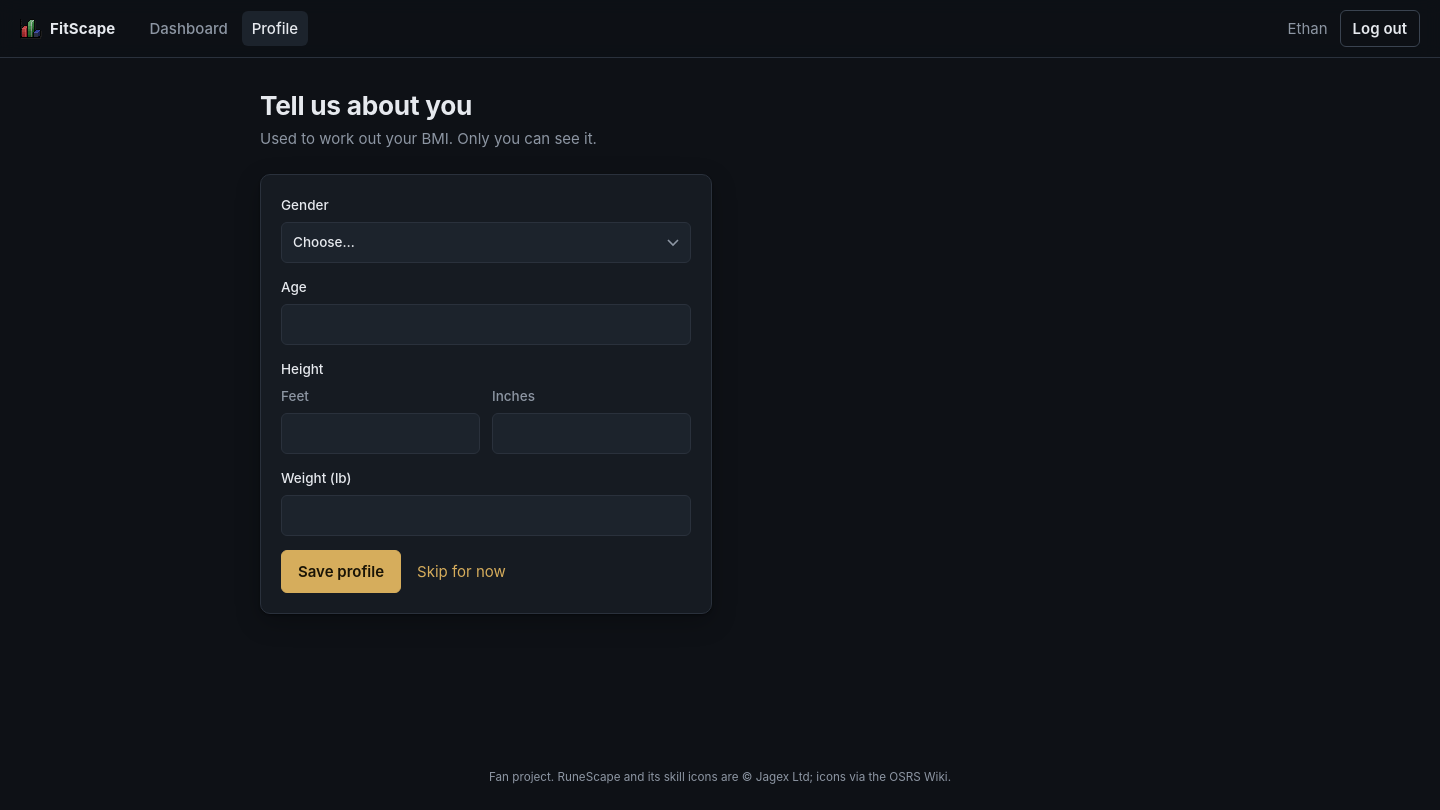
Scenario: Profile › asks a new user for their details and shows the BMI after saving
Expected: the heading "Tell us about you" is shown, [260,90,472,121]
Select "Male" in the dropdown labelled "Gender": (486, 243) [281,222,691,263]
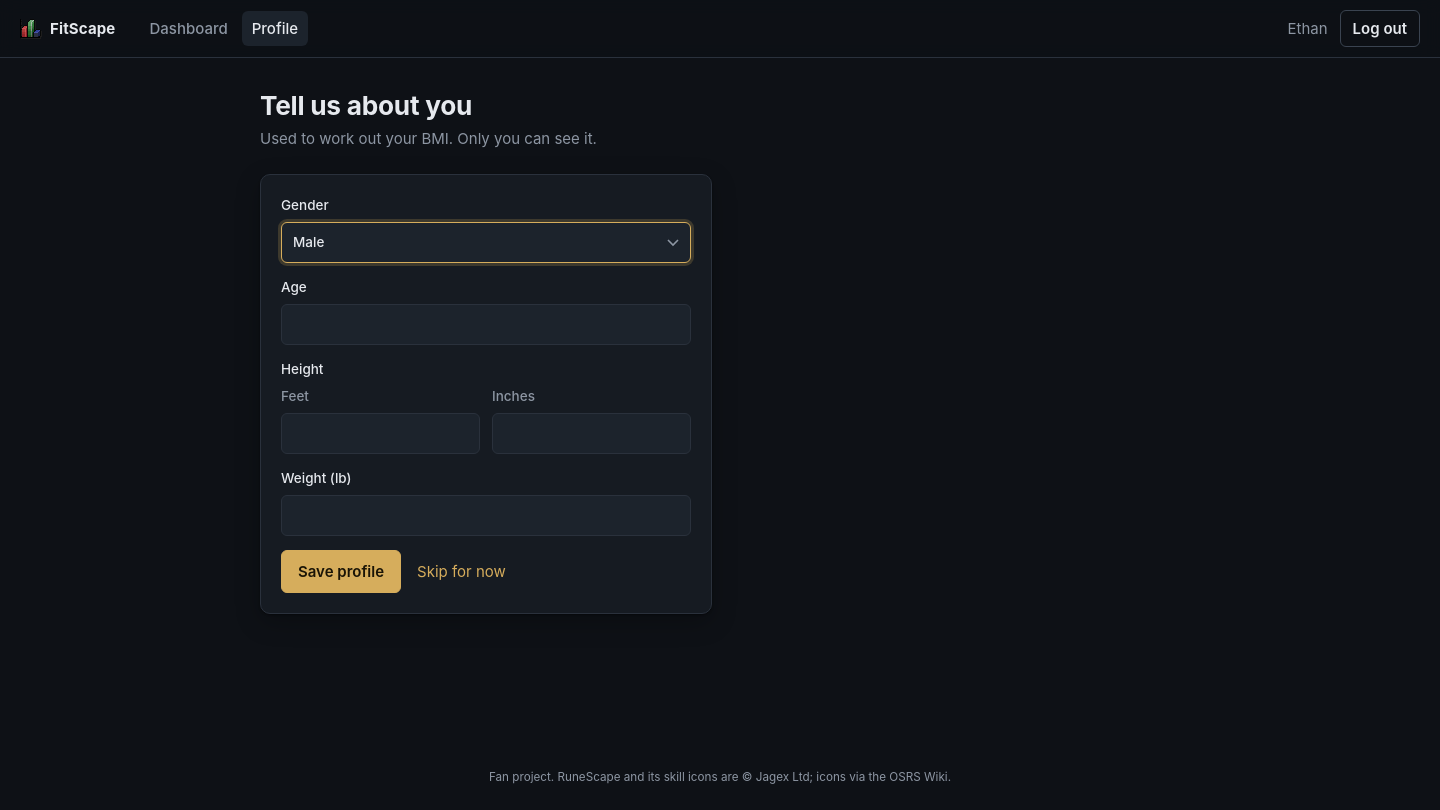
In the number field labelled "Age": (486, 325) [281,304,691,345], type "22"
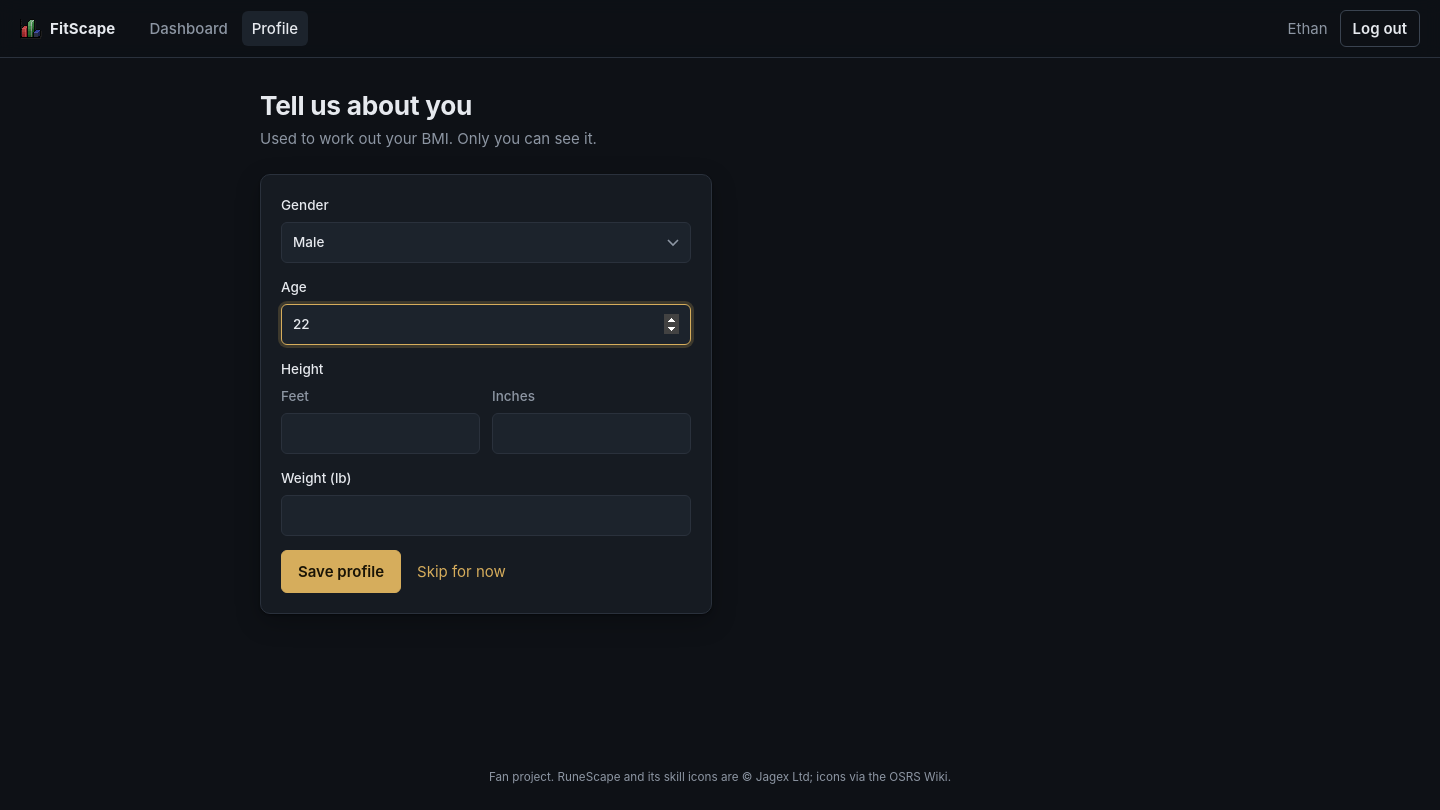
In the number field labelled "Feet": (380, 433) [281,413,480,454], type "5"
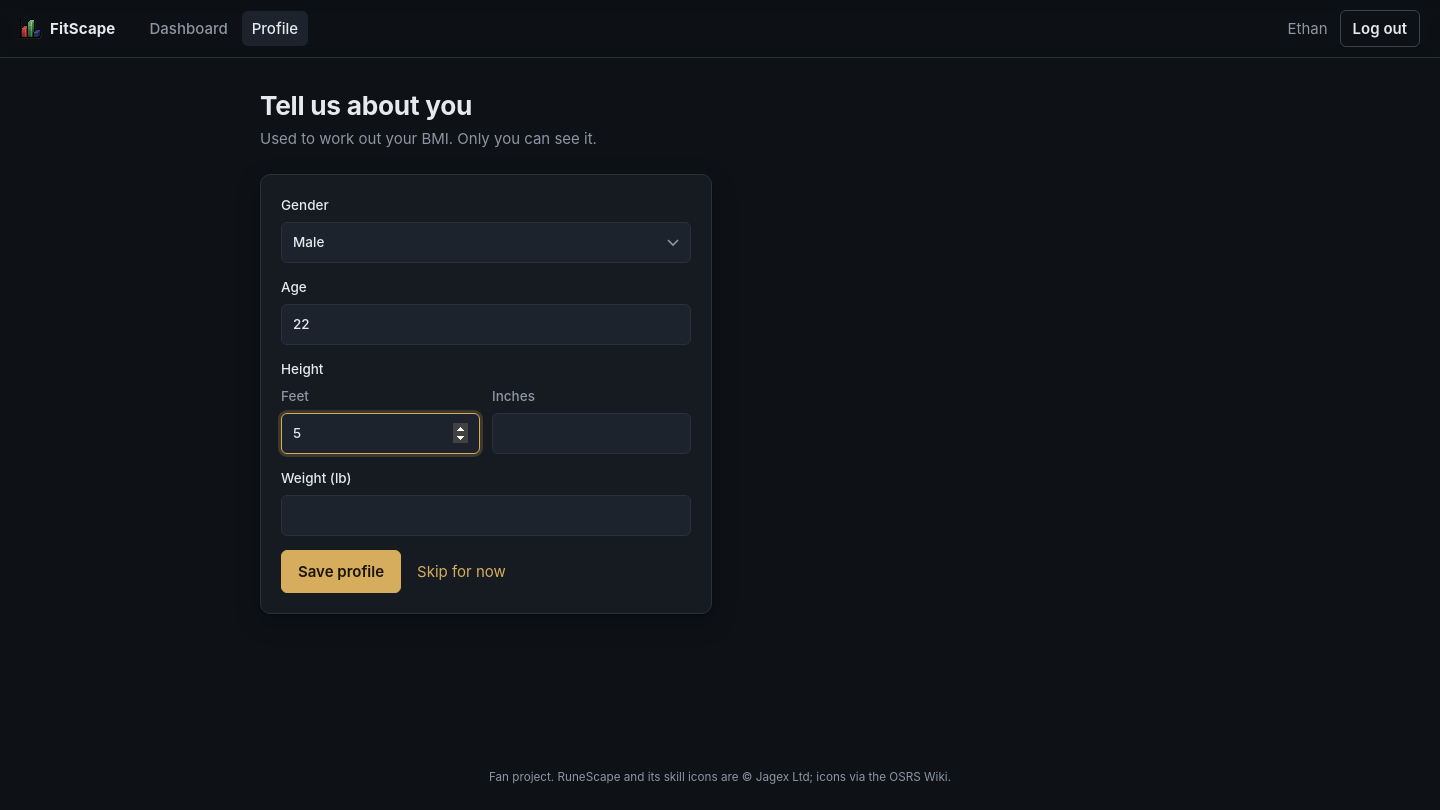
In the number field labelled "Inches": (592, 433) [492,413,691,454], type "11"
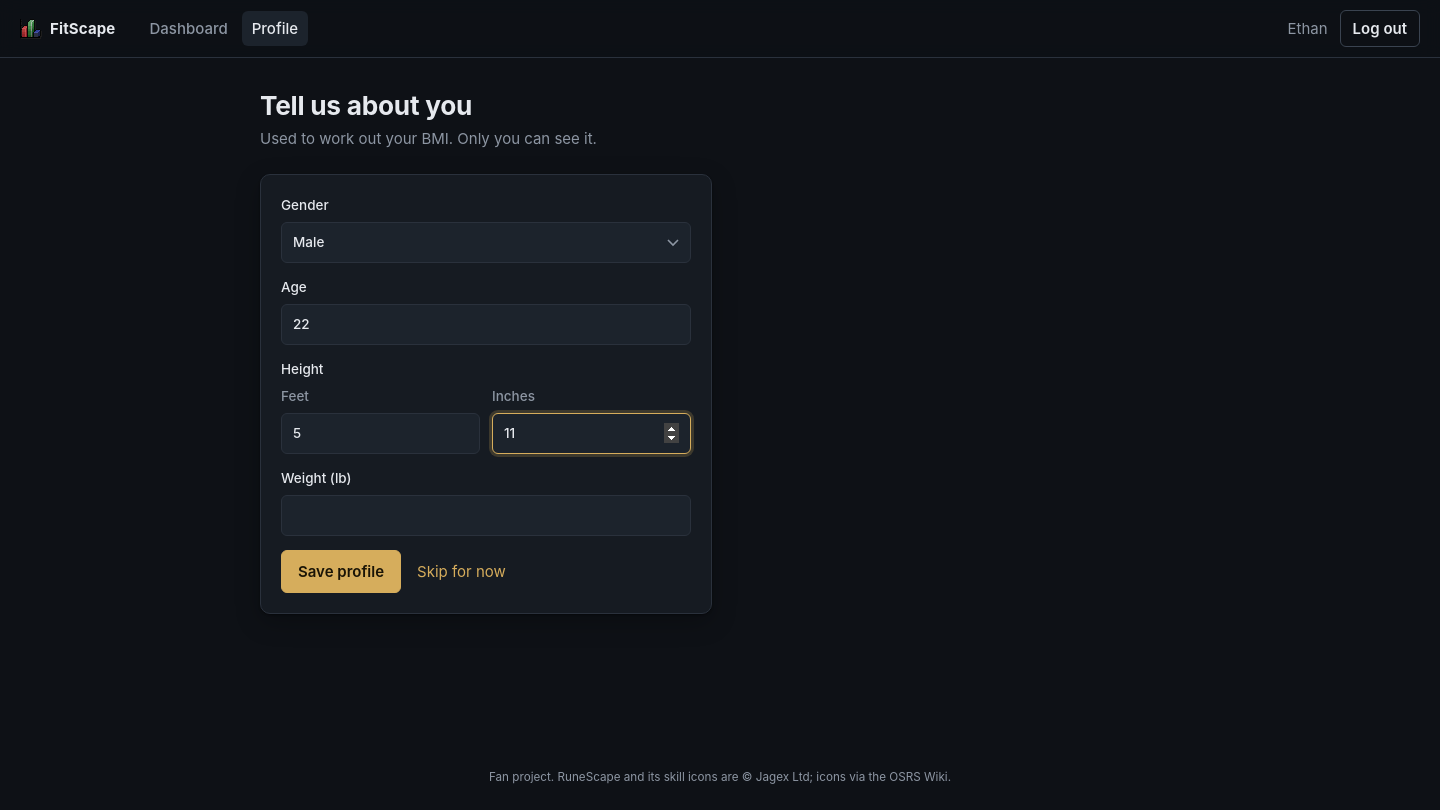
In the number field labelled "Weight (lb)": (486, 515) [281,495,691,536], type "180.5"
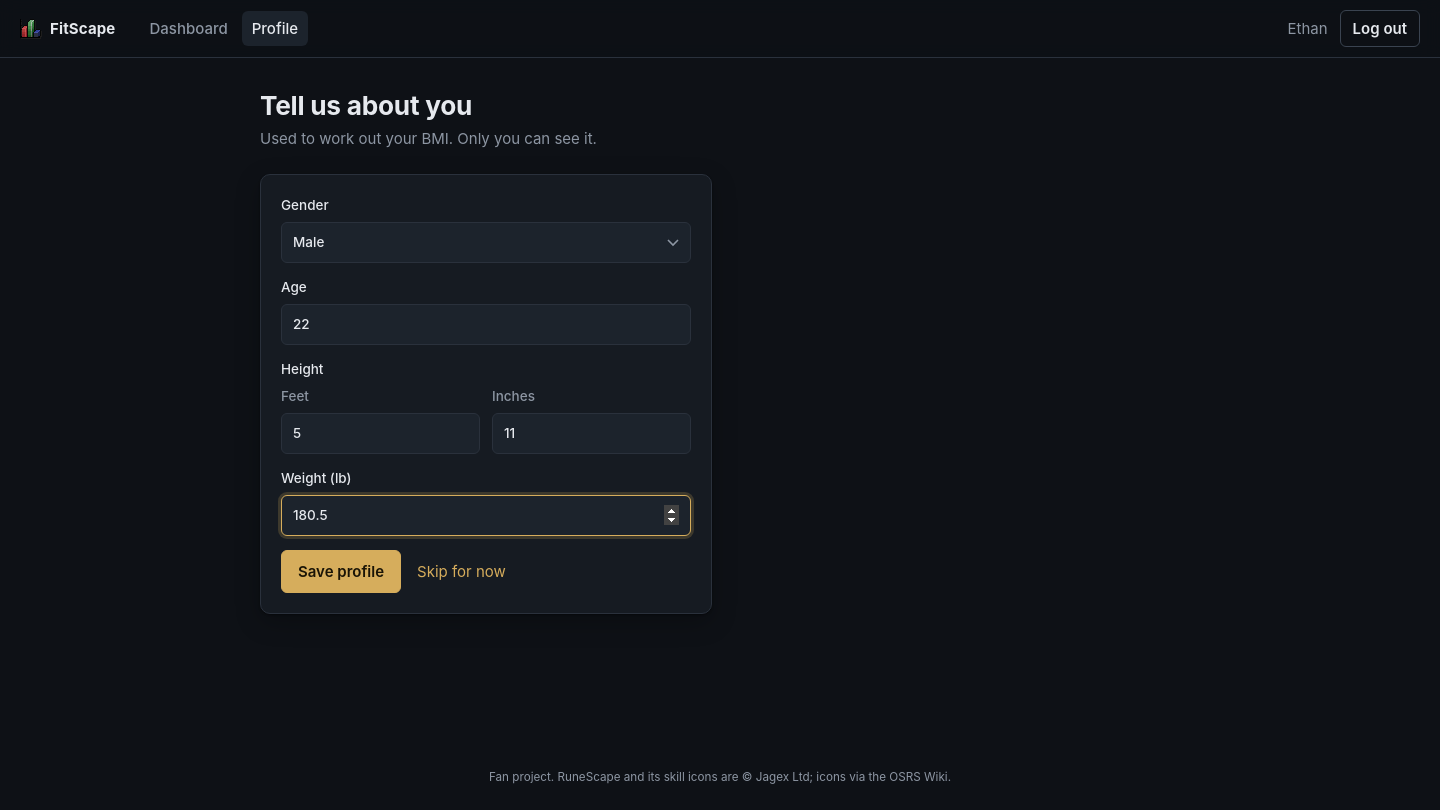
Click the button "Save profile": (341, 571) [281,550,401,593]
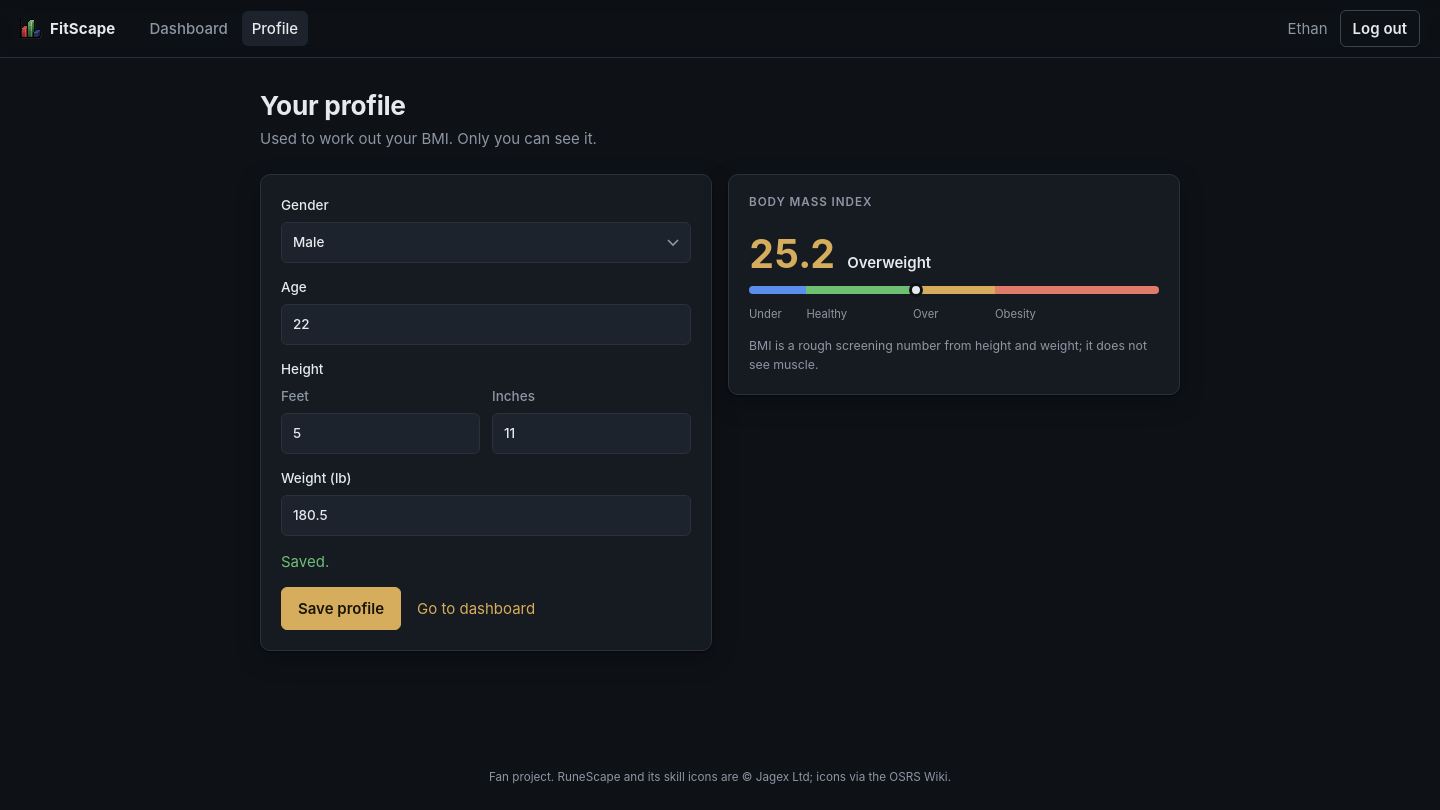
Now the text "25.2" is shown, box [749,234,835,273]
Now the text "Overweight" is shown, box [847,251,931,274]
Now the message reads "Saved.", box [281,552,329,571]
